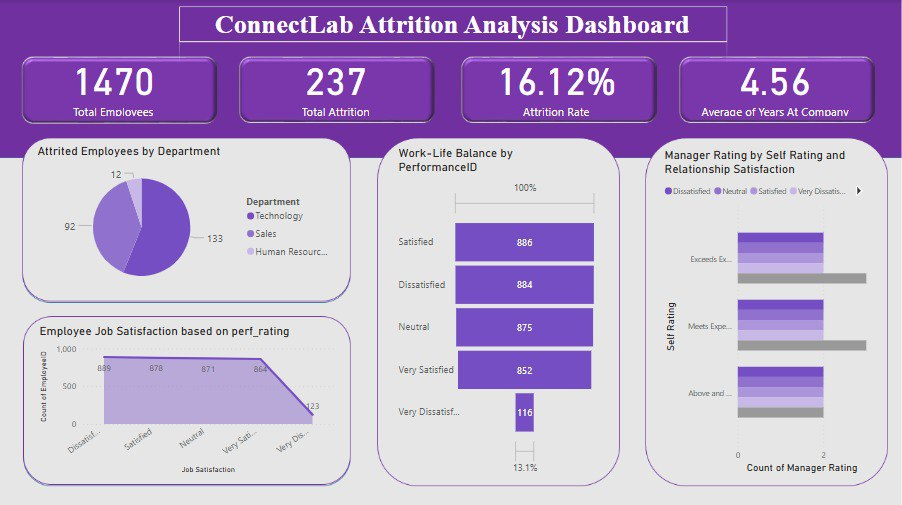

This screenshot's page, from the dashboard's own definition file:
{"tool":"powerbi","page":{"name":"Page 1","canvas":[1280,720],"ordinal":0},"visuals":[{"type":"textbox","box":[262,7,762.9,52.9],"z":0},{"type":"pieChart","title":"Attrited Employees by Department","fields":{"Category":["employee.Department"],"Y":["employee.Attrited Employees by Department"]},"box":[51,204.1,433.7,215.4],"z":1000},{"type":"card","fields":{"Values":["employee.Total Attrition"]},"box":[344.3,70,268.6,100],"z":2000},{"type":"card","fields":{"Values":["employee.Total Employees"]},"box":[24.3,70,278.6,100],"z":3000},{"type":"card","fields":{"Values":["employee.Attrition Rate"]},"box":[652.9,70,275.7,100],"z":4000},{"type":"areaChart","title":"Employee Job Satisfaction based on perf_rating","fields":{"Category":["performance_rating.Job Satisfaction"],"Y":["Count(performance_rating.EmployeeID)"]},"box":[53.9,459.2,426.6,216.9],"z":5000},{"type":"funnel","title":"Work-Life Balance by PerformanceID","fields":{"Category":["performance_rating.Work-Life Balance"],"Y":["Count(performance_rating.EmployeeID)"]},"box":[562.7,206.9,292,472],"z":6000},{"type":"clusteredBarChart","title":"Manager Rating by Self Rating and Relationship Satisfaction","fields":{"Category":["performance_rating.Self Rating"],"Y":["Count(performance_rating.Manager Rating)"],"Series":["performance_rating.Relationship Satisfaction"]},"box":[939.7,209.8,300.5,466.3],"z":7000},{"type":"card","fields":{"Values":["Avg(employee.Years At Company)"]},"box":[974.3,69.9,255.9,100.1],"z":7001}]}

Visuals, with their boxes in screenshot pixels (x1, y1, x2, y2), scaled from the page's 1280x720 canvas onto the 902x505 screenshot:
textbox: [x1=185, y1=5, x2=722, y2=42]
"Attrited Employees by Department" pieChart: [x1=36, y1=143, x2=342, y2=294]
card - employee.Total Attrition: [x1=243, y1=49, x2=432, y2=119]
card - employee.Total Employees: [x1=17, y1=49, x2=213, y2=119]
card - employee.Attrition Rate: [x1=460, y1=49, x2=654, y2=119]
"Employee Job Satisfaction based on perf_rating" areaChart: [x1=38, y1=322, x2=339, y2=474]
"Work-Life Balance by PerformanceID" funnel: [x1=397, y1=145, x2=602, y2=476]
"Manager Rating by Self Rating and Relationship Satisfaction" clusteredBarChart: [x1=662, y1=147, x2=874, y2=474]
card - Avg(employee.Years At Company): [x1=687, y1=49, x2=867, y2=119]
